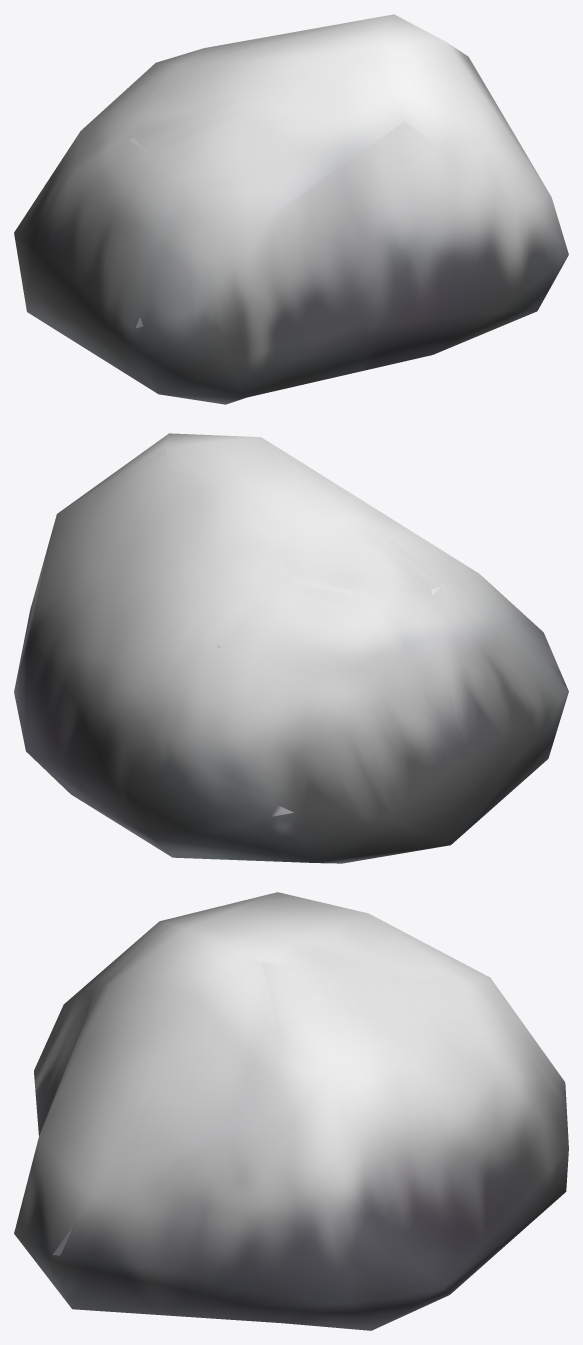
File: SmallRock.fbx
3 renders of one model, top to bottom at view 1: azimuth 30°, elevation 25°; view 2: azimuth 150°, elevation 25°; view 3: azimuth 270°, elevation 25°, orthographic. The views are drawn at different scales.
Visible parts, largest first — view 1: Cube; view 2: Cube; view 3: Cube.
Part boxes in pixels (x1,y1,x2,y2): Cube: (14,14,568,404); Cube: (14,433,568,863); Cube: (14,892,568,1330).
Bounding box in the file's own units: 144 × 91.54 × 133.
